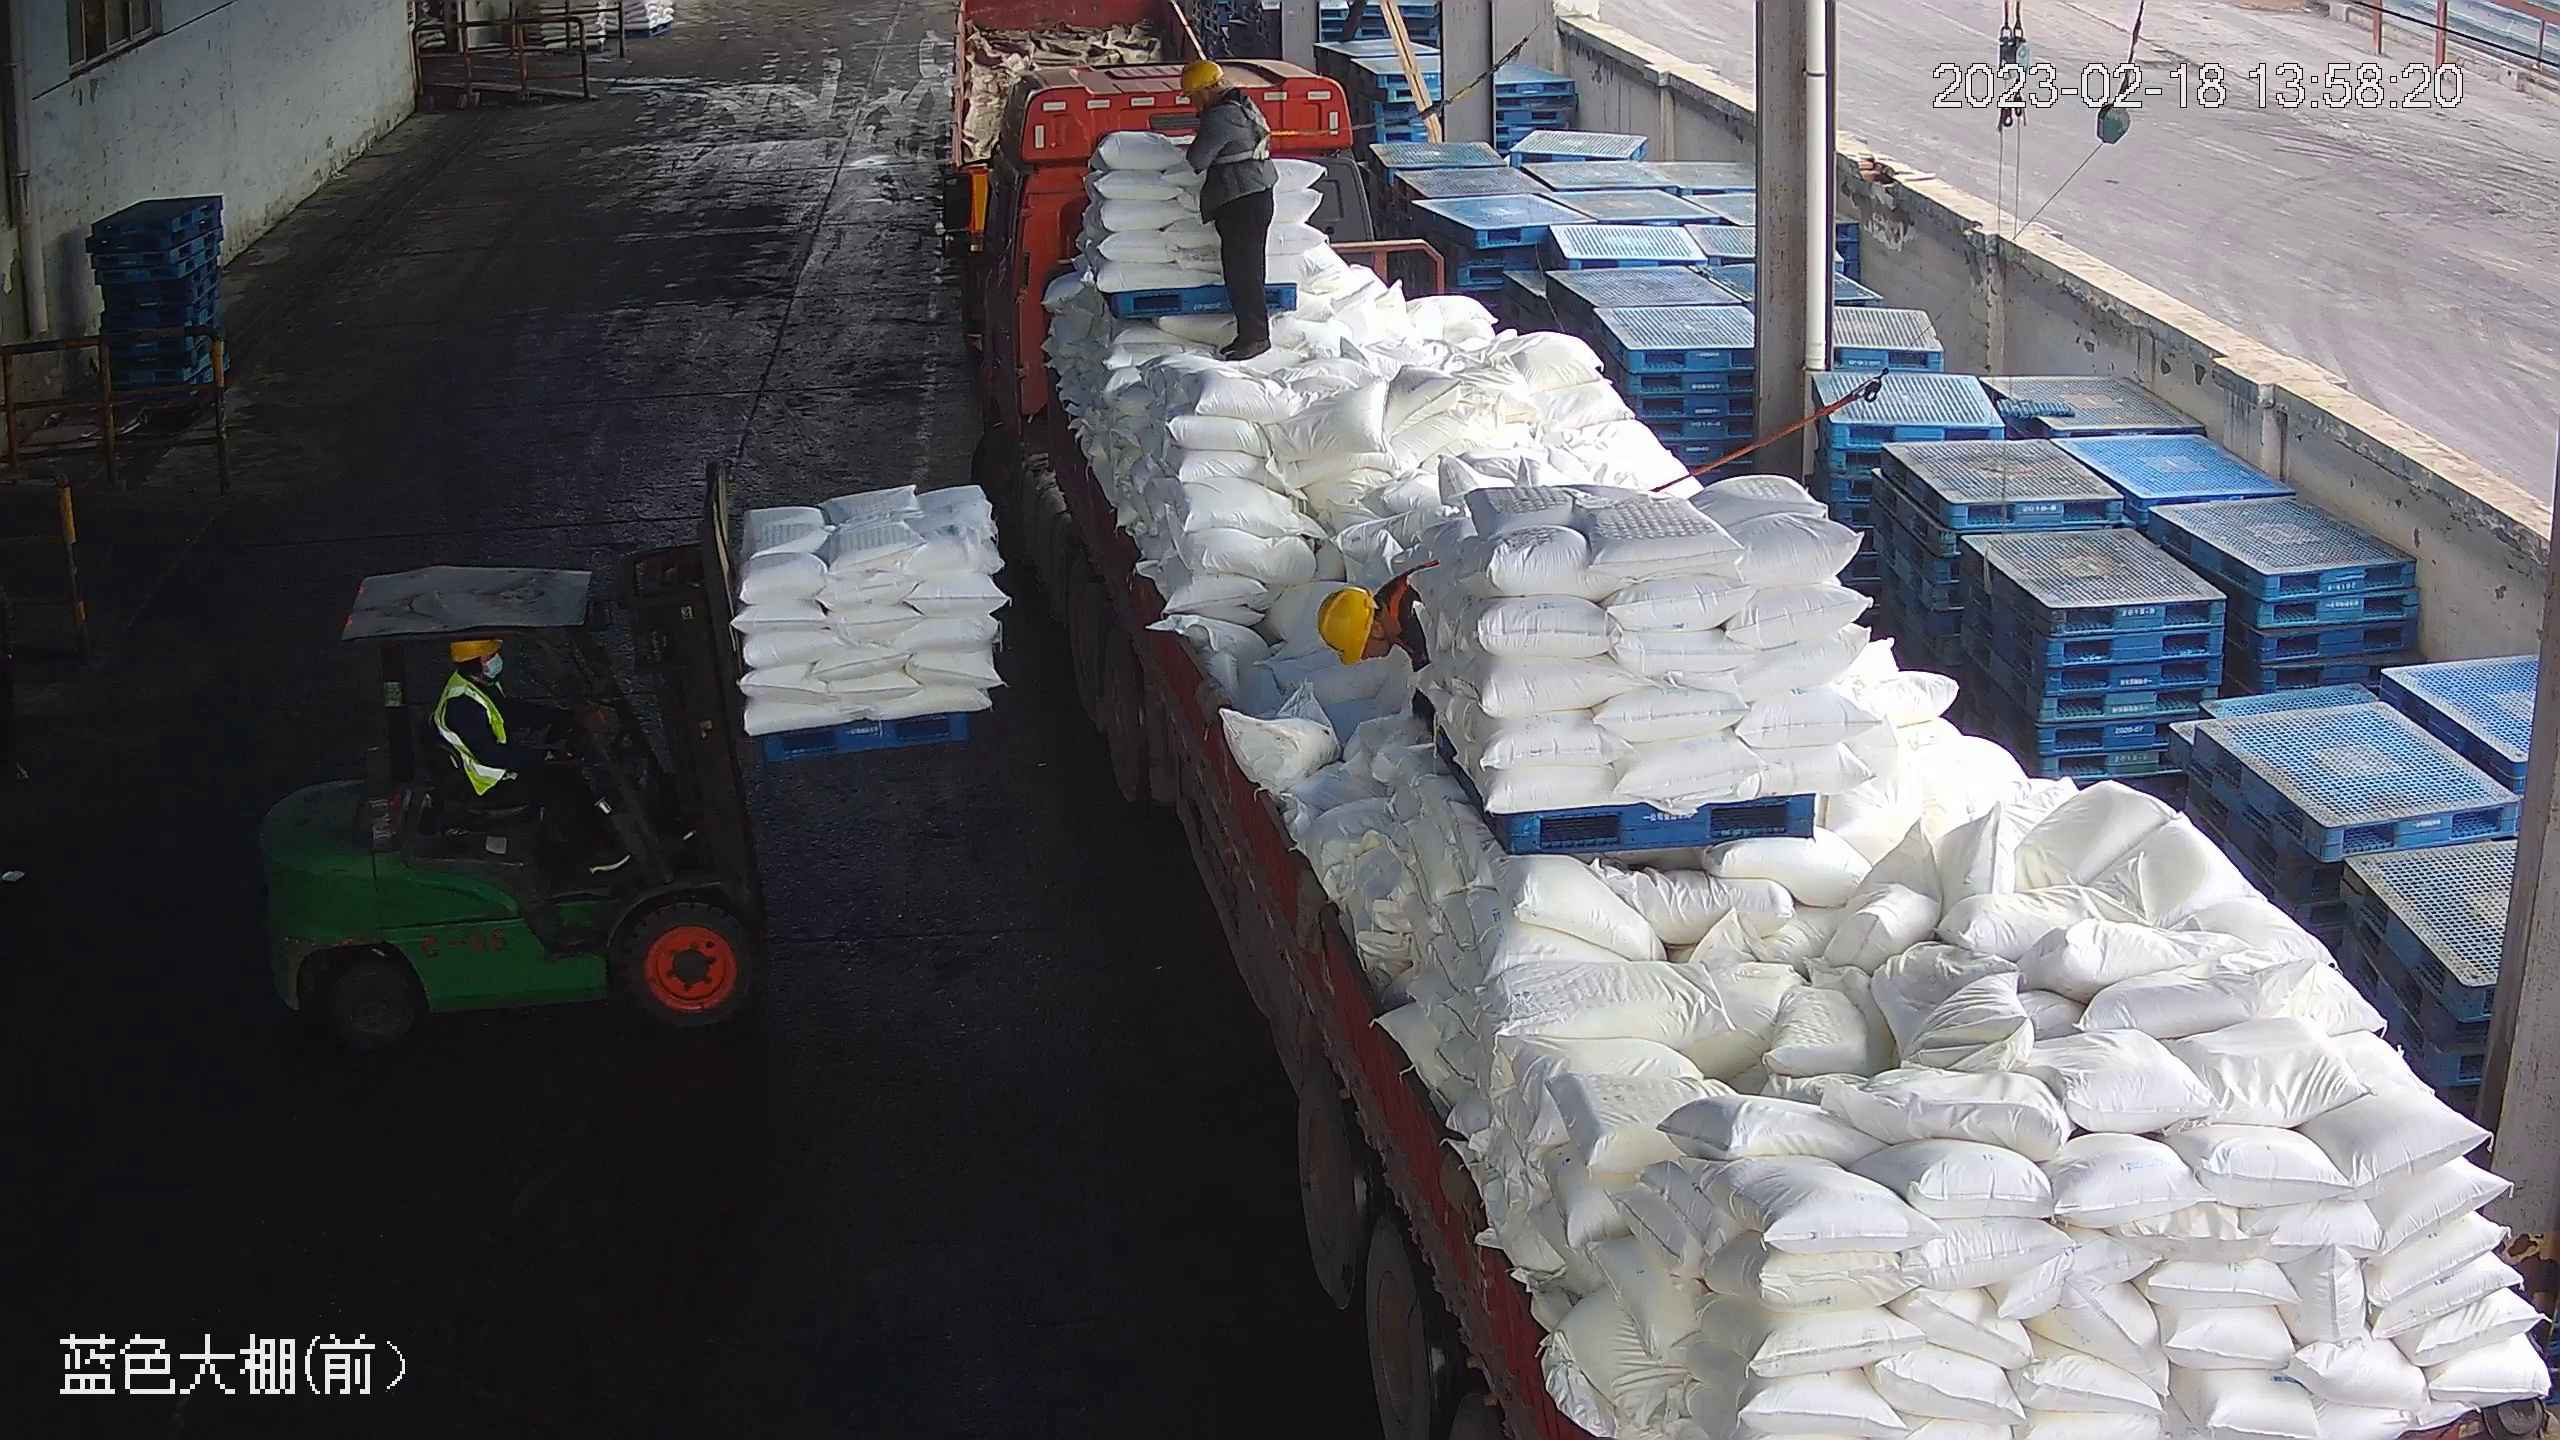belt: (1219, 93, 1283, 162), (1372, 564, 1418, 644)
head: (1316, 570, 1426, 669), (435, 634, 514, 722), (1178, 58, 1263, 134)
helmet: (1315, 589, 1374, 667), (1175, 57, 1225, 95)
people: (435, 630, 593, 855), (1176, 56, 1276, 357)
truck: (932, 57, 2555, 1440)
